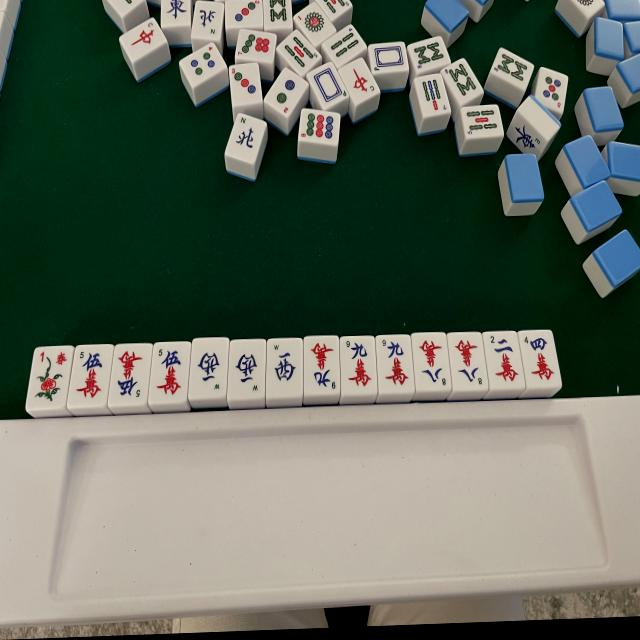ff1: (36, 347, 67, 407)
m2: (488, 332, 519, 385)
m4: (523, 330, 556, 384)
m5: (75, 344, 107, 405), (114, 346, 145, 401), (154, 346, 183, 402)
m8: (452, 334, 483, 389), (416, 334, 448, 387)
m9: (378, 335, 412, 392), (306, 336, 338, 391), (344, 336, 374, 391)
west: (270, 339, 301, 395), (231, 342, 263, 396), (194, 341, 222, 397)
